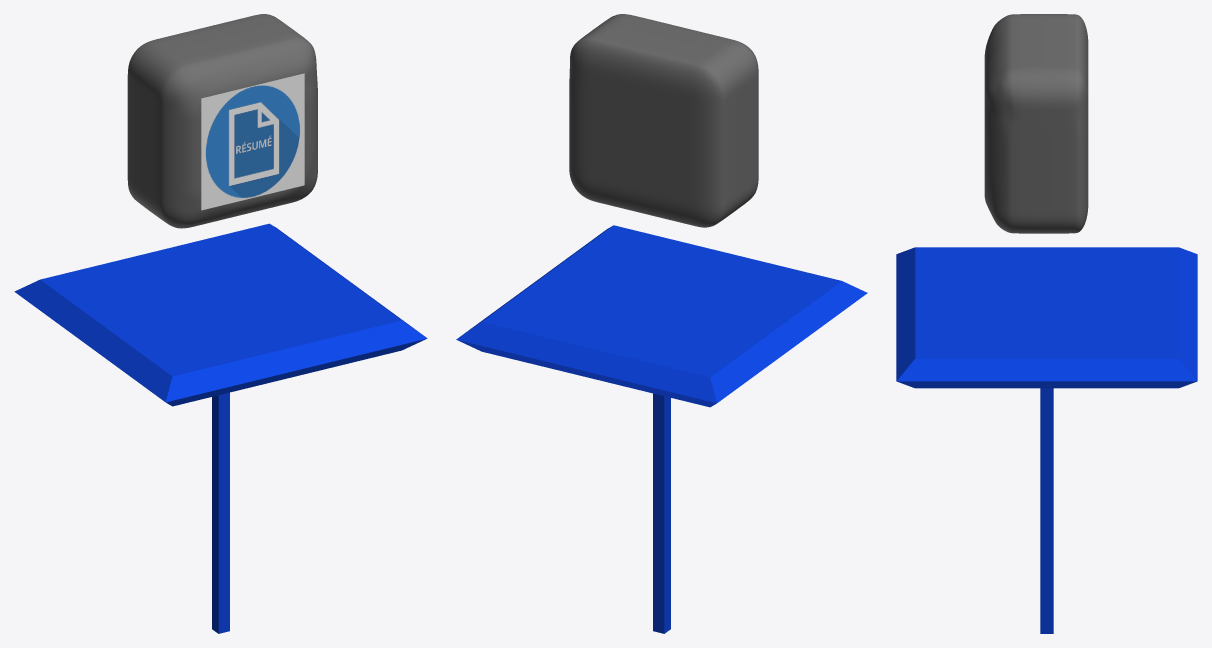
The model's file is Resume.gltf.
3 views of the same model, side by side, from view 1: azimuth 30°, elevation 25°; view 2: azimuth 150°, elevation 25°; view 3: azimuth 270°, elevation 25° (orthographic).
Parts seen in each view (by area): view 1: Cube, Github, Plane; view 2: Cube, Github; view 3: Cube, Github.
Part boxes in pixels (x1,y1,x2,y2): Cube: [14, 223, 427, 633]; Github: [127, 14, 317, 228]; Plane: [201, 73, 304, 210]; Cube: [456, 225, 867, 633]; Github: [569, 14, 758, 227]; Cube: [896, 247, 1197, 633]; Github: [984, 14, 1088, 233].
Size of the model in its own units: 9.14 by 19.73 by 9.14.
4 materials, 1 textured.
